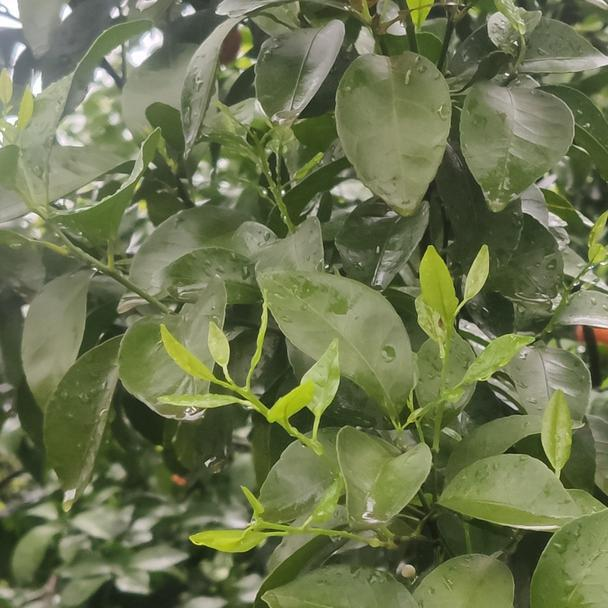shoot: (168, 325, 371, 495), (414, 255, 530, 427), (204, 491, 365, 571)
